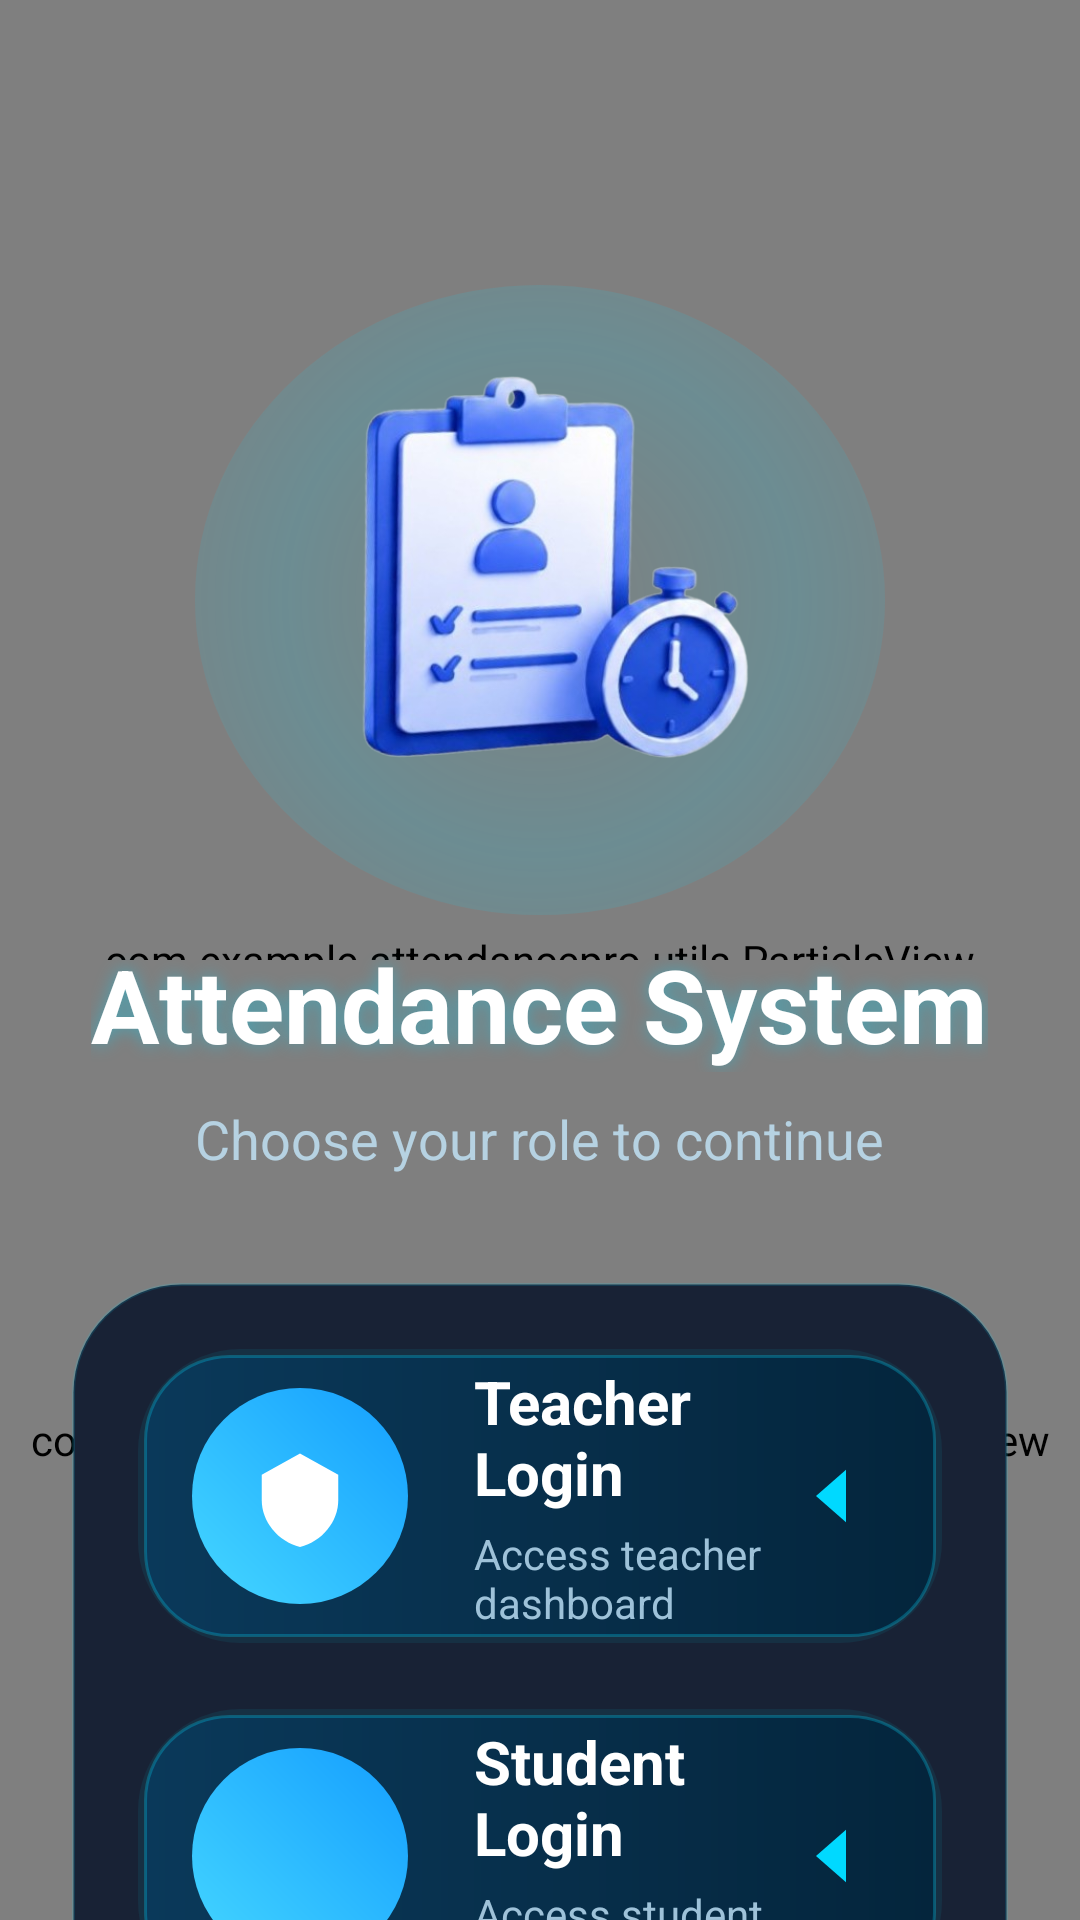

Icons on this 1080px×1920px Android screen, each with the point to tap as point (x, y):
admin: point (300, 1500)
